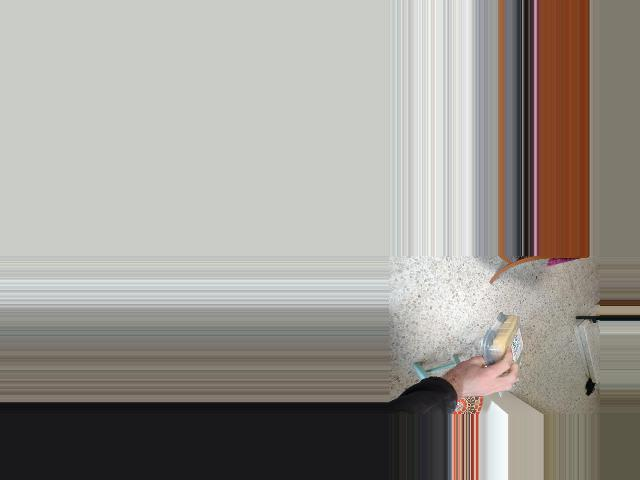cheese: (481, 310, 527, 386)
